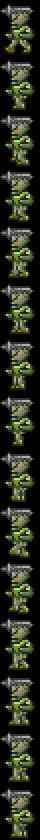zombie: (0, 172, 38, 226), (2, 339, 38, 394), (2, 226, 36, 284), (1, 115, 36, 170), (1, 7, 37, 58), (2, 285, 38, 336), (0, 60, 33, 110)
